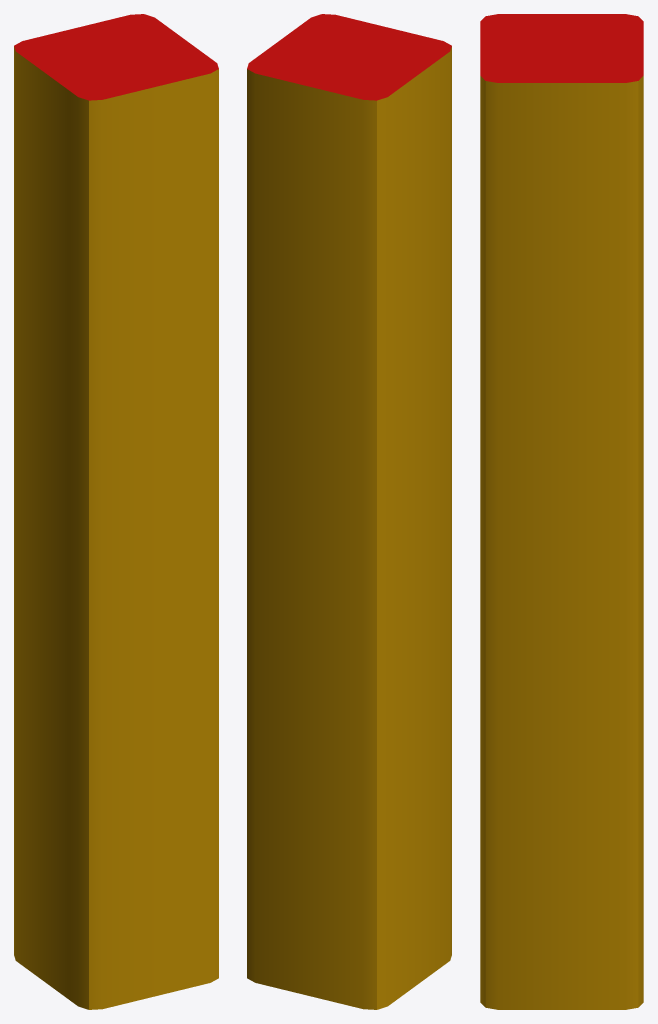
File: Unity HD Render Pipeline (Metallic Standard).fbx
3 renders of one model, left to right at view 1: azimuth 30°, elevation 25°; view 2: azimuth 150°, elevation 25°; view 3: azimuth 270°, elevation 25°, orthographic.
Parts seen in each view (by area): view 1: Pile (×2); view 2: Pile (×2); view 3: Pile (×2).
Part boxes in pixels (x1,y1,x2,y2): Pile (×2): (14,14,218,1009); Pile (×2): (247,14,451,1009); Pile (×2): (480,14,643,1009).
Size of the model in its own units: 0.32 by 2 by 0.32.
